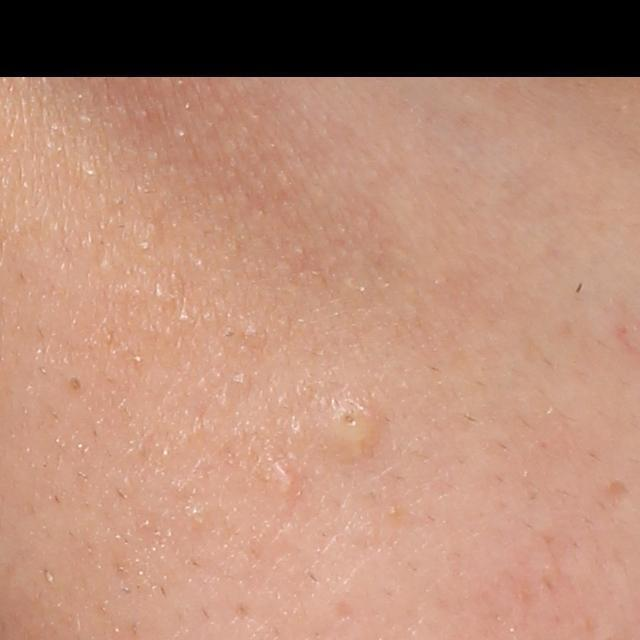atrophic_scar: (597, 471, 634, 508)
comedo: (327, 399, 373, 447), (273, 462, 300, 502), (65, 371, 86, 394)
